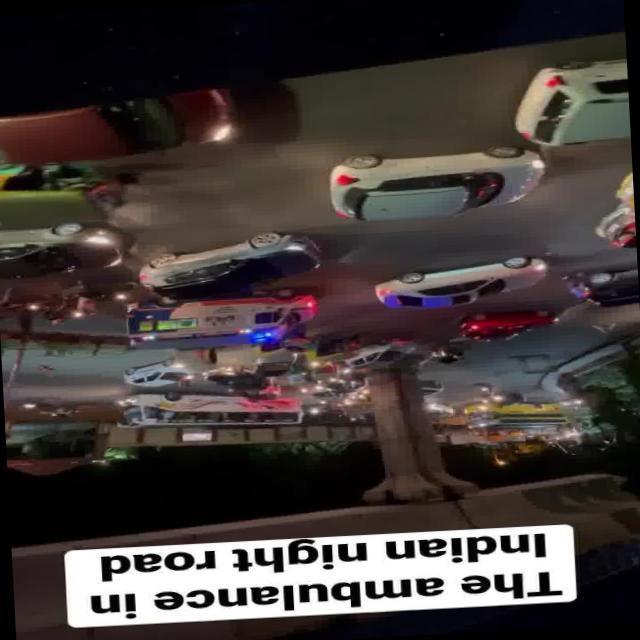ambulance: (119, 292, 330, 366)
